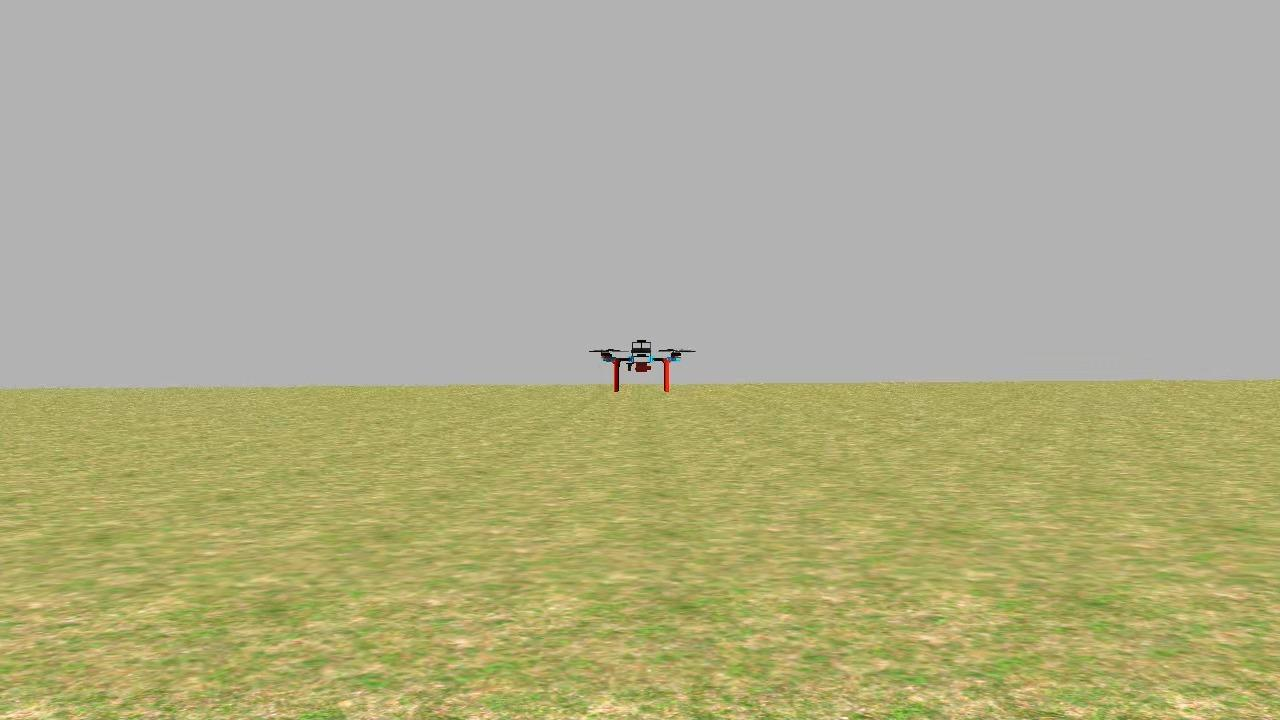UAV: (586, 332, 696, 404)
